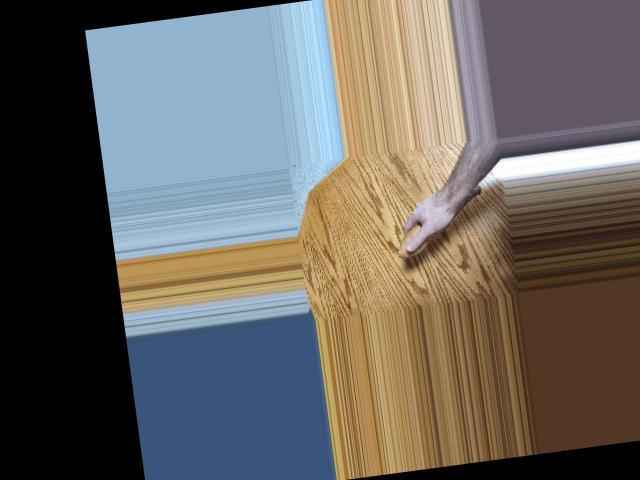sweet_potato: (389, 186, 487, 260)
